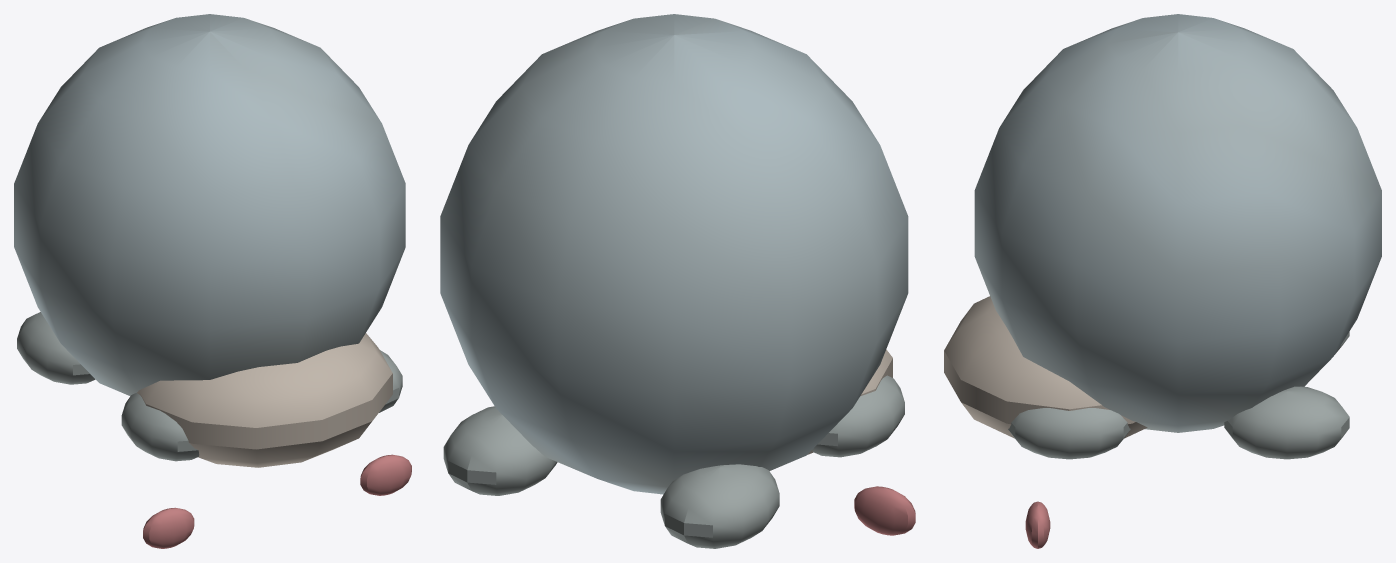
3 renders of one model, left to right at view 1: azimuth 30°, elevation 25°; view 2: azimuth 150°, elevation 25°; view 3: azimuth 270°, elevation 25°, orthographic. The views are drawn at different scales.
Visible parts, largest first — view 1: pet_p45c081f3; view 2: pet_p45c081f3; view 3: pet_p45c081f3.
Boxes of the visible parts, x1,y1,x2,y2 form: pet_p45c081f3: [14, 14, 411, 548]; pet_p45c081f3: [440, 14, 915, 548]; pet_p45c081f3: [944, 14, 1381, 548].
Bounding box in the file's own units: 0.3742 × 0.464 × 0.4023.
